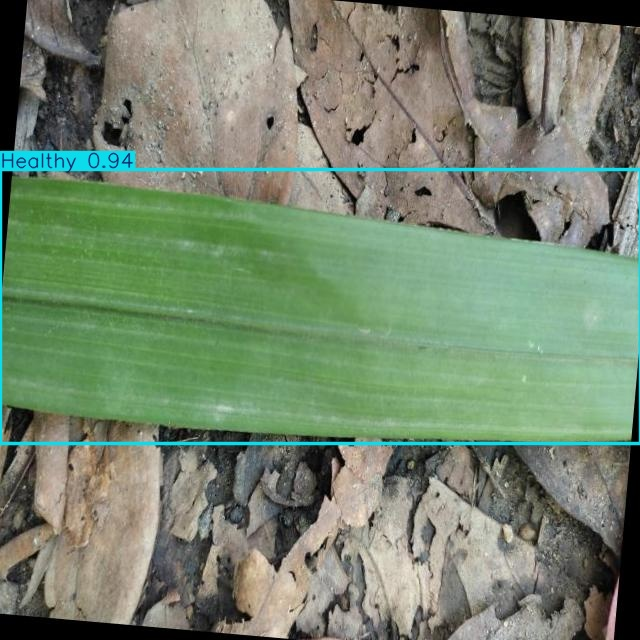Healthy: (0, 170, 640, 444)
